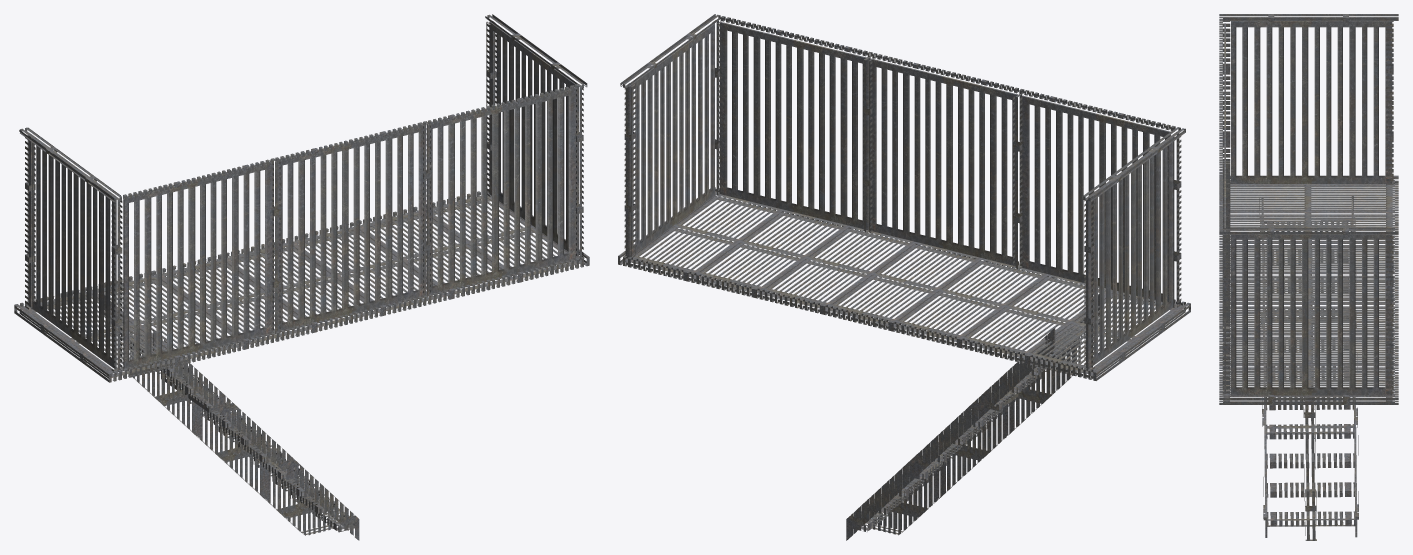
Rendered from DT_FireEscape_01.fbx.
The picture shows the model from 3 angles, left to right: view 1: azimuth 30°, elevation 25°; view 2: azimuth 150°, elevation 25°; view 3: azimuth 270°, elevation 25°; orthographic projection. The views are drawn at different scales.
Visible parts, largest first — view 1: DT_FireEscape_01; view 2: DT_FireEscape_01; view 3: DT_FireEscape_01.
Boxes of the visible parts, x1,y1,x2,y2 form: DT_FireEscape_01: (14,14,589,540); DT_FireEscape_01: (618,14,1190,540); DT_FireEscape_01: (1219,14,1398,540).
Size of the model in its own units: 280 by 239 by 96.
